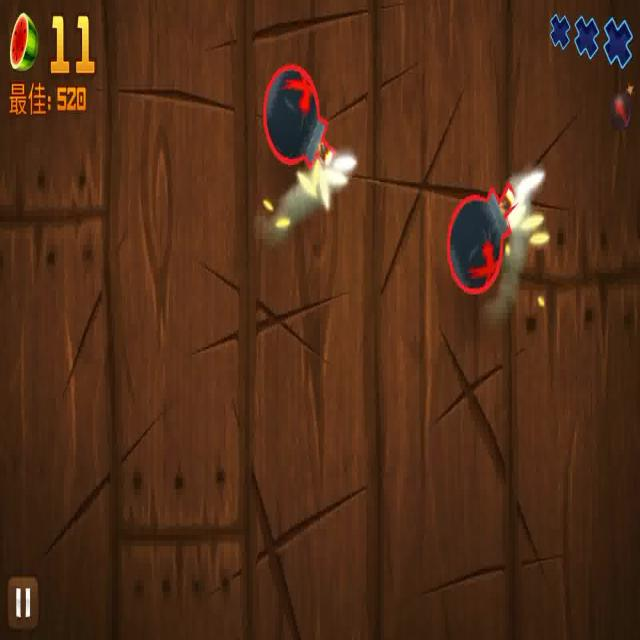bomb: (261, 61, 352, 202), (445, 180, 525, 296)
